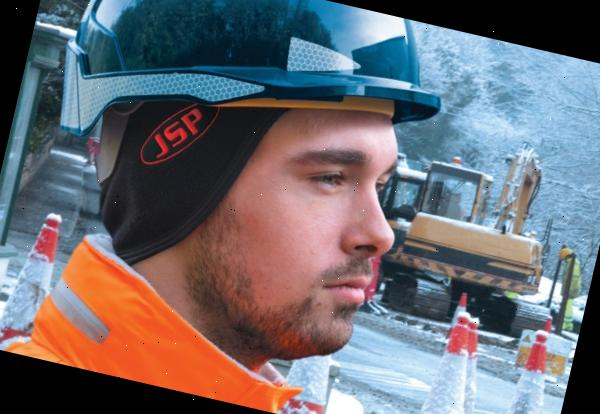helmet: (44, 0, 460, 216)
